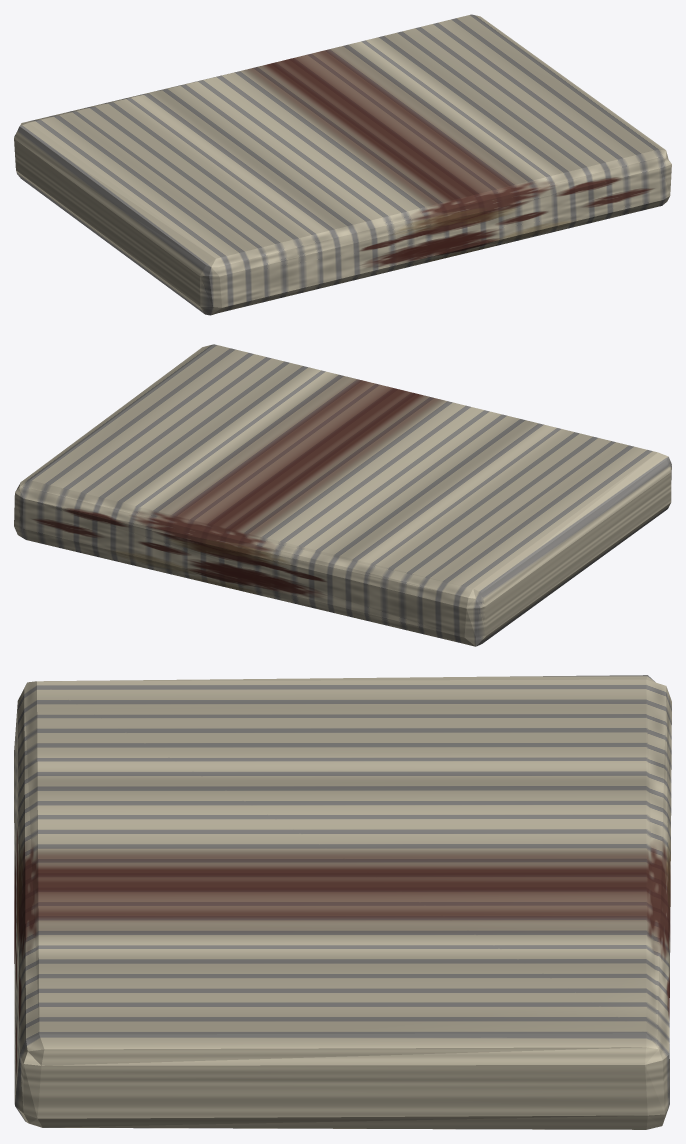
Rendered from mattress.glb.
The picture shows the model from 3 angles, top to bottom: view 1: azimuth 30°, elevation 25°; view 2: azimuth 150°, elevation 25°; view 3: azimuth 270°, elevation 25°; orthographic projection. The views are drawn at different scales.
Parts seen in each view (by area): view 1: mattress; view 2: mattress; view 3: mattress.
Part boxes in pixels (<box>): mattress: <box>14,14,671,315</box>; mattress: <box>14,344,671,646</box>; mattress: <box>14,675,671,1129</box>.
Bounding box in the file's own units: 1.91 × 0.2256 × 1.41.
Materials: 1 (1 with a texture image).
